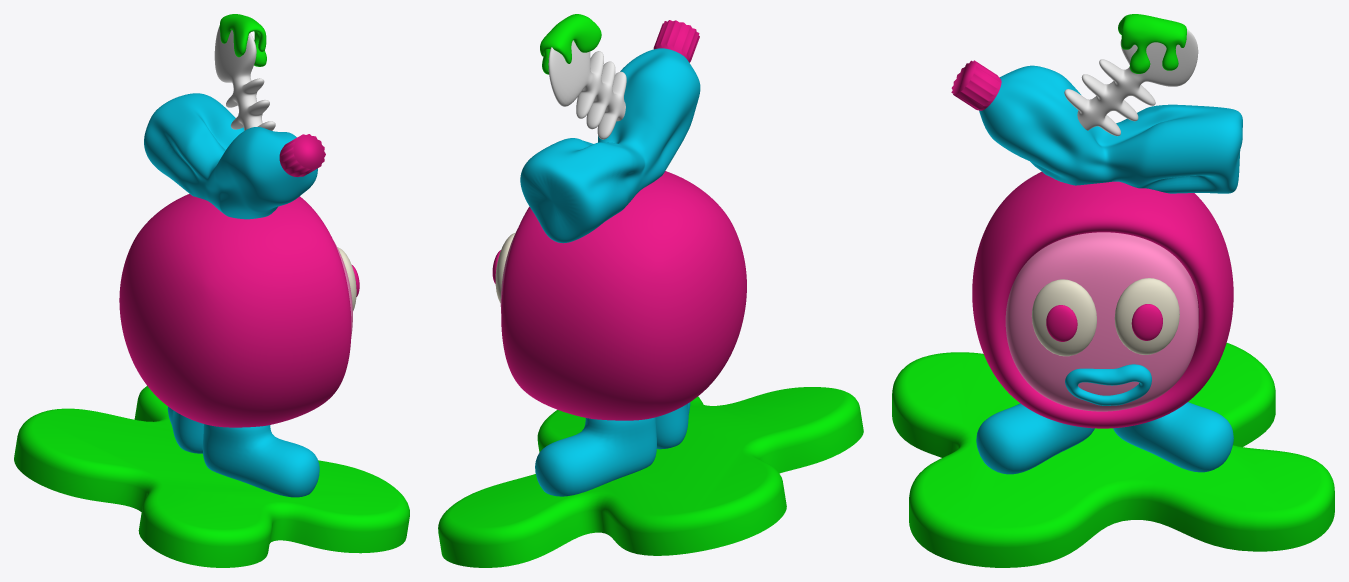
The model's file is TOI1.glb.
The picture shows the model from 3 angles, left to right: view 1: azimuth 30°, elevation 25°; view 2: azimuth 150°, elevation 25°; view 3: azimuth 270°, elevation 25°; orthographic projection. The views are drawn at different scales.
Visible parts, largest first — view 1: Cylinder.013, Cylinder.011, Cylinder.010, Cylinder.015, Cylinder.016, Cylinder.066, Cylinder.004, Cylinder.014; view 2: Cylinder.013, Cylinder.011, Cylinder.010, Cylinder.014, Cylinder.016, Cylinder.004, Cylinder.066, Cylinder.015; view 3: Cylinder.011, Cylinder.013, Cylinder.010, Cylinder.012, Cylinder.016, Cylinder.014, Cylinder.015, Cylinder.006, Cylinder.008, Cylinder.004, Cylinder.005, Cylinder.066 (+2 smaller).
Part boxes in pixels (<box>): Cylinder.013: <box>119,194,351,427</box>; Cylinder.011: <box>14,386,409,567</box>; Cylinder.010: <box>144,93,317,219</box>; Cylinder.015: <box>202,424,319,497</box>; Cylinder.016: <box>214,26,275,130</box>; Cylinder.066: <box>279,134,325,177</box>; Cylinder.004: <box>219,14,266,66</box>; Cylinder.014: <box>167,406,203,453</box>; Cylinder.013: <box>501,171,746,420</box>; Cylinder.011: <box>438,387,863,567</box>; Cylinder.010: <box>520,48,700,243</box>; Cylinder.014: <box>535,417,656,496</box>; Cylinder.016: <box>548,40,626,139</box>; Cylinder.004: <box>540,14,601,74</box>; Cylinder.066: <box>653,20,699,62</box>; Cylinder.015: <box>655,402,690,449</box>; Cylinder.011: <box>892,343,1334,567</box>; Cylinder.013: <box>972,171,1233,428</box>; Cylinder.010: <box>979,65,1242,193</box>; Cylinder.012: <box>1005,232,1198,411</box>; Cylinder.016: <box>1064,29,1198,136</box>; Cylinder.014: <box>1113,402,1233,472</box>; Cylinder.015: <box>976,403,1094,474</box>; Cylinder.006: <box>1031,279,1096,356</box>; Cylinder.008: <box>1114,278,1179,354</box>; Cylinder.004: <box>1118,14,1186,73</box>; Cylinder.005: <box>1065,364,1151,405</box>; Cylinder.066: <box>951,60,1001,110</box>.
Size of the model in its own units: 0.5248 by 0.8139 by 0.6411.
